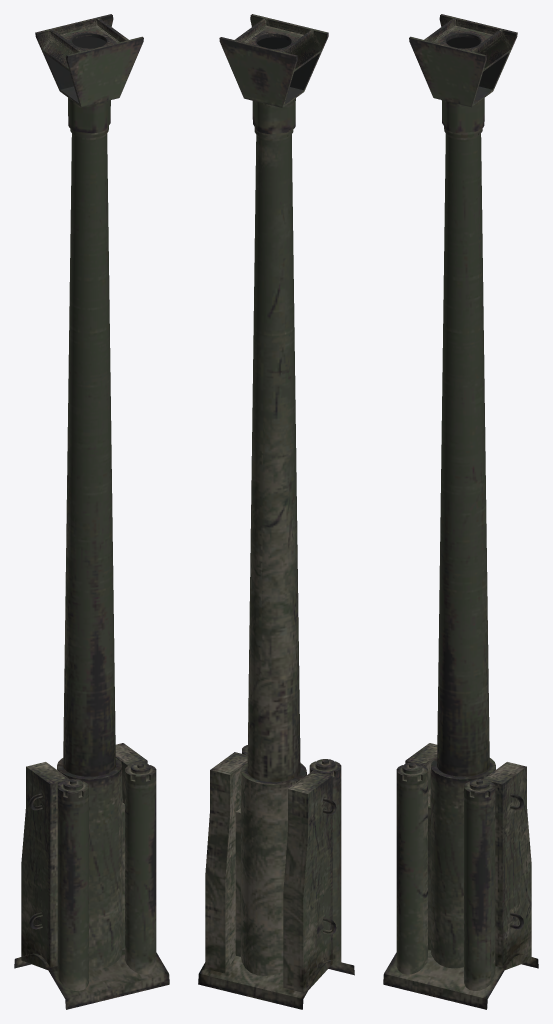
File: Gun_04.glb
The picture shows the model from 3 angles, left to right: view 1: azimuth 30°, elevation 25°; view 2: azimuth 150°, elevation 25°; view 3: azimuth 330°, elevation 25°; orthographic projection.
Visible parts, largest first — view 1: set_0_group_0; view 2: set_0_group_0; view 3: set_0_group_0.
Boxes of the visible parts, <box> form: set_0_group_0: <box>14,14,169,1009</box>; set_0_group_0: <box>198,14,354,1009</box>; set_0_group_0: <box>383,14,538,1009</box>.
Size of the model in its own units: 0.6474 by 4.76 by 0.474.
1 material, 1 textured.
